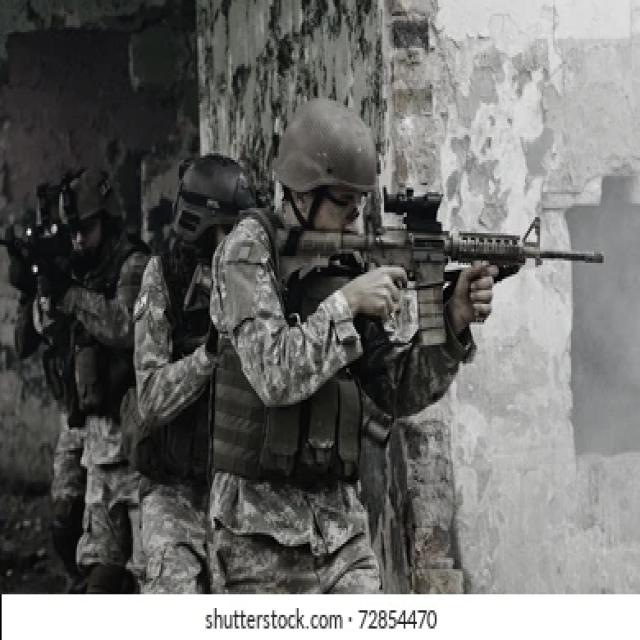soldier: (222, 107, 607, 629), (139, 145, 256, 596), (48, 133, 152, 622)
